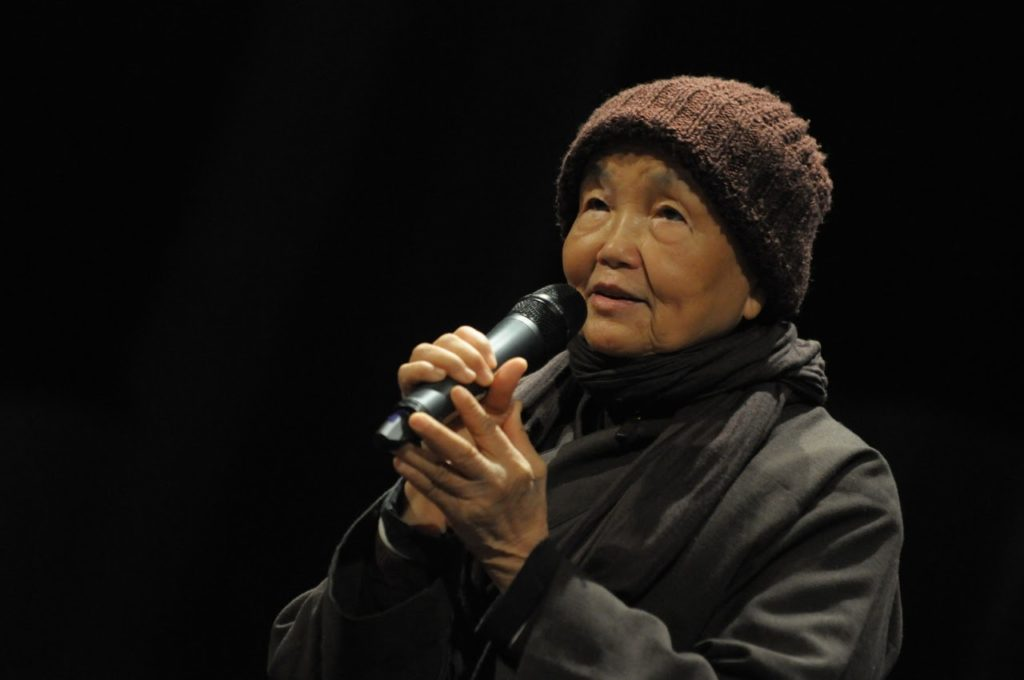without_mask: (571, 182, 708, 337)
